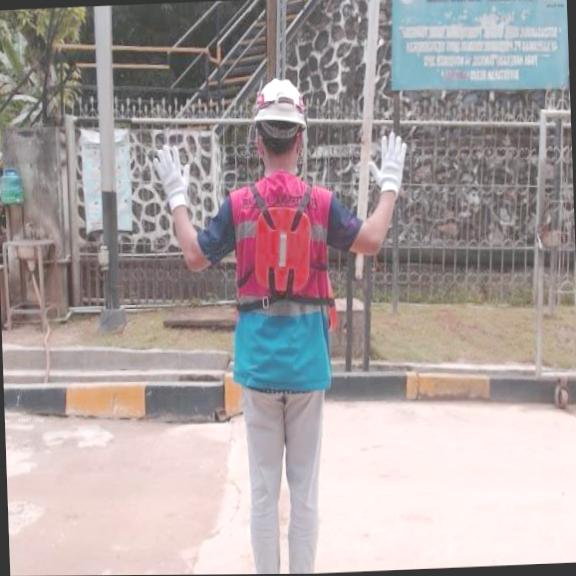safety_vest: (246, 202, 316, 300)
